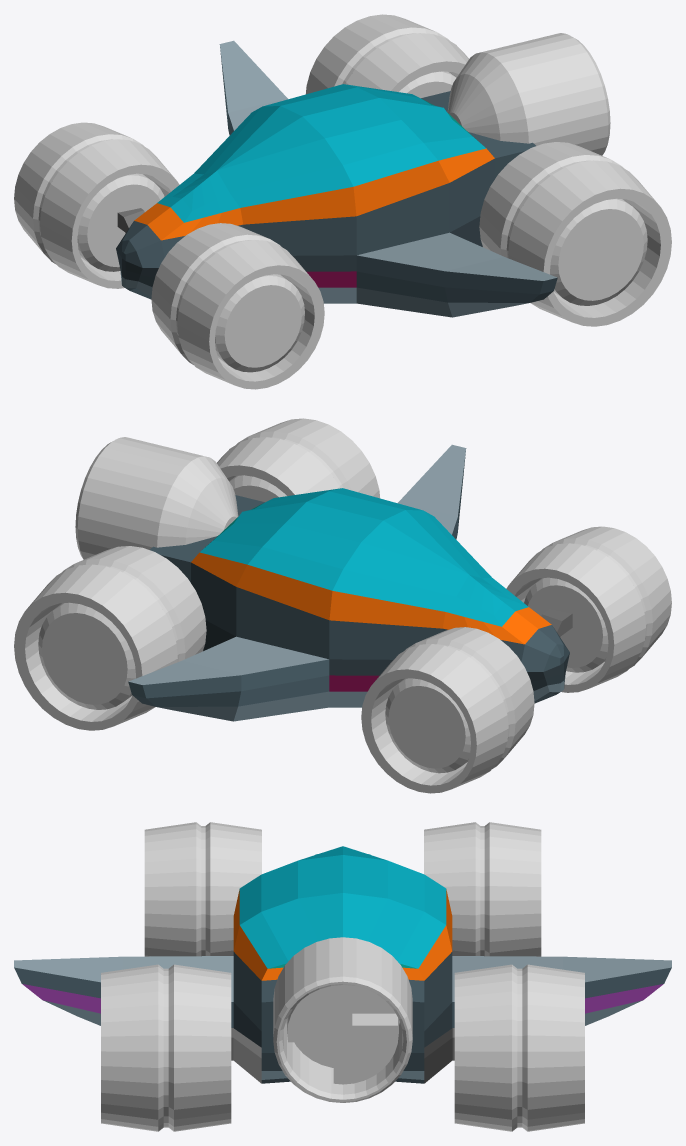
Rendered from ArcadeCar.fbx.
The picture shows the model from 3 angles, top to bottom: view 1: azimuth 30°, elevation 25°; view 2: azimuth 150°, elevation 25°; view 3: azimuth 270°, elevation 25°; orthographic projection.
Visible parts, largest first — view 1: CarBody, WheelRearLeft, WheelRearRight.002, Booster, WheelRearRight.001, WheelRearRight, RimWheelRearLeft, RimWheelFrontRight.003, RimWheelFrontRight.002, RimWheelFrontRight; view 2: CarBody, WheelRearRight, WheelRearRight.001, Booster, WheelRearRight.002, WheelRearLeft, RimWheelFrontRight, RimWheelFrontRight.002, RimWheelFrontRight.003, RimWheelRearLeft; view 3: CarBody, WheelRearRight, WheelRearLeft, WheelRearRight.001, WheelRearRight.002, Booster, BoosterBlade2.001, BoosterBlade2.002.
Part boxes in pixels (x1,y1,x2,y2): CarBody: (116,40,557,317); WheelRearLeft: (479,142,671,326); WheelRearRight.002: (151,223,324,389); Booster: (447,33,610,155); WheelRearRight.001: (14,122,179,288); WheelRearRight: (306,14,468,94); RimWheelRearLeft: (550,198,647,305); RimWheelFrontRight.003: (215,274,304,372); RimWheelFrontRight.002: (77,173,164,271); RimWheelFrontRight: (399,71,456,98); CarBody: (128,444,572,721); WheelRearRight: (14,546,206,730); WheelRearRight.001: (361,627,534,793); Booster: (75,437,238,559); WheelRearRight.002: (506,526,671,692); WheelRearLeft: (217,418,379,498); RimWheelFrontRight: (38,602,135,709); RimWheelFrontRight.002: (385,678,470,773); RimWheelFrontRight.003: (524,577,608,672); RimWheelRearLeft: (229,475,286,502); CarBody: (14,846,671,1083); WheelRearRight: (454,964,584,1131); WheelRearLeft: (101,964,231,1131); WheelRearRight.001: (424,822,541,956); WheelRearRight.002: (144,822,261,956); Booster: (273,937,412,1102); BoosterBlade2.001: (287,985,398,1084); BoosterBlade2.002: (287,986,398,1067).
Size of the model in its own units: 596 by 225 by 707.
